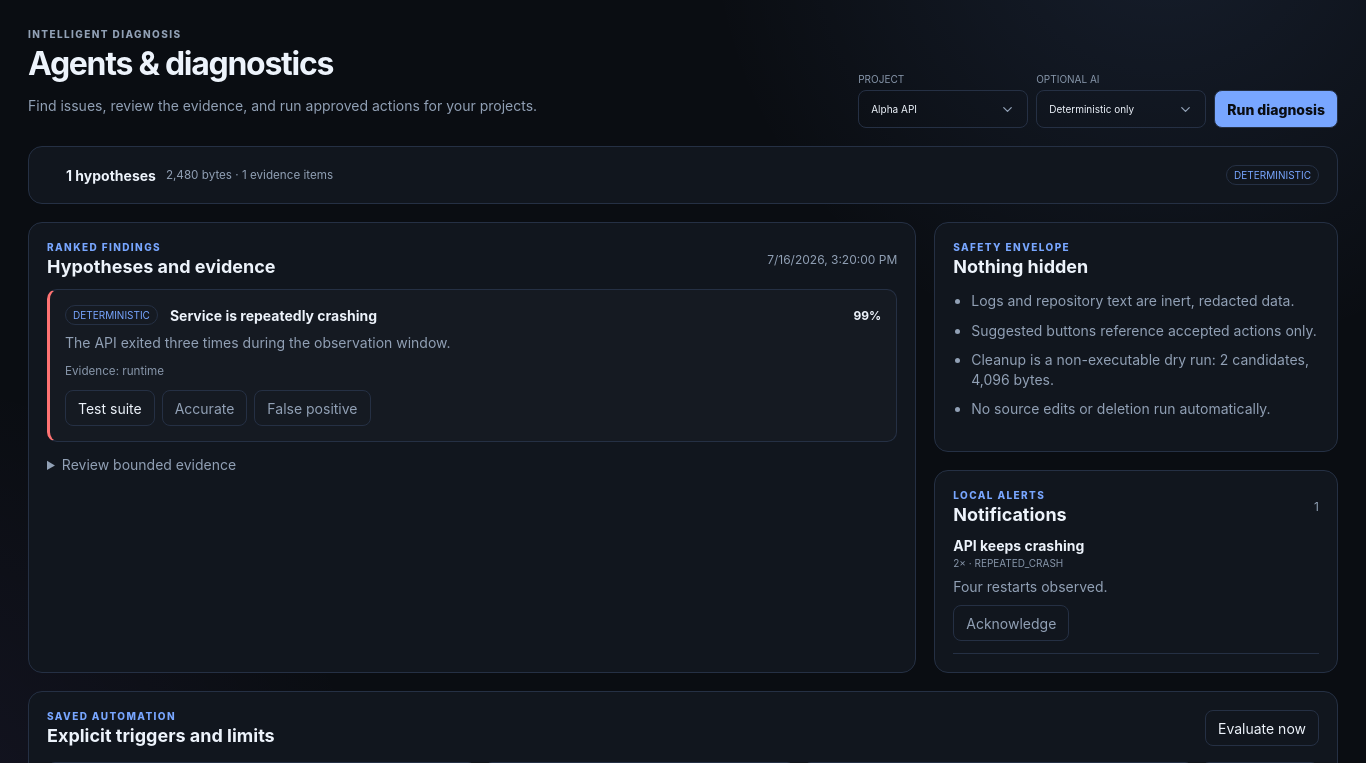
Test: acknowledges a diagnostic alert locally
Expected: the text "API keeps crashing" is shown, [953,537,1084,554]
Click the button "Acknowledge" at (1011, 623), box [953,605,1069,641]
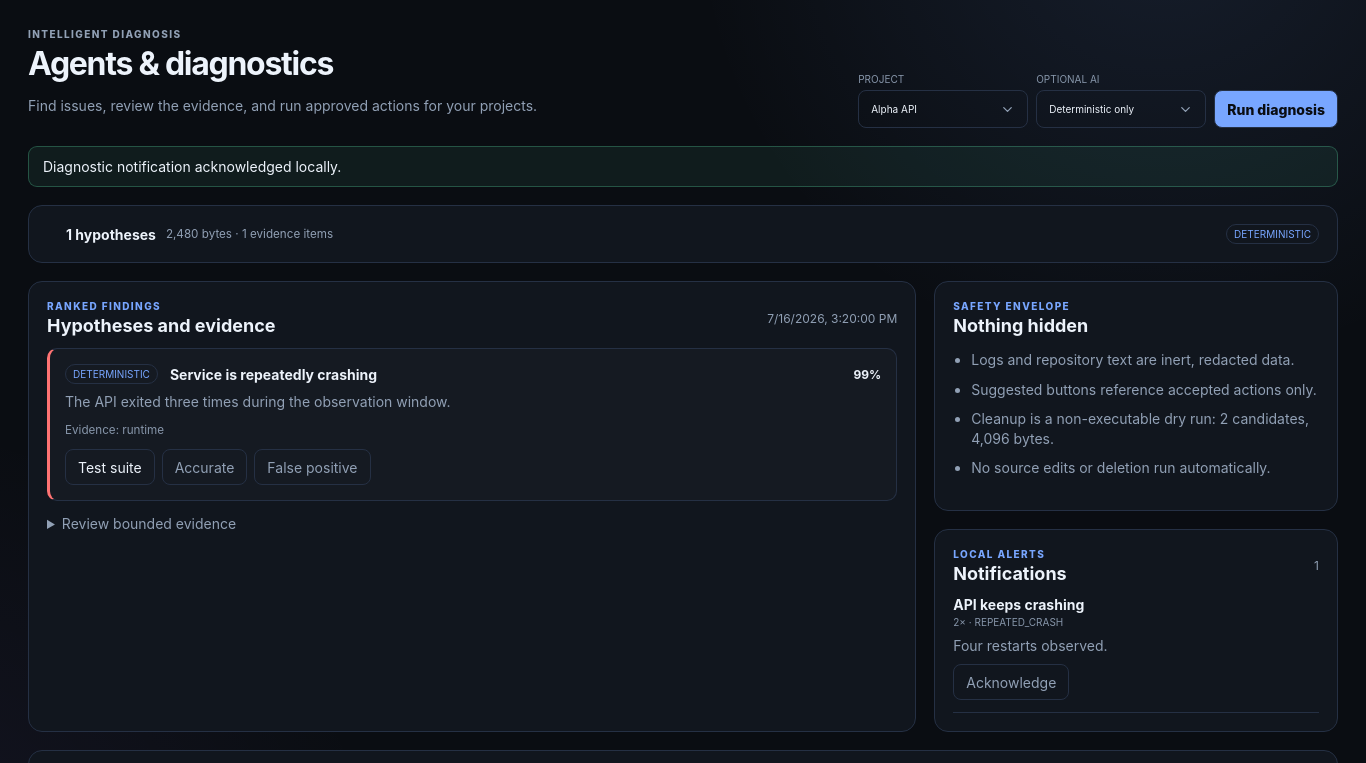
Expected: the message shows "acknowledged locally", [43,158,341,175]
